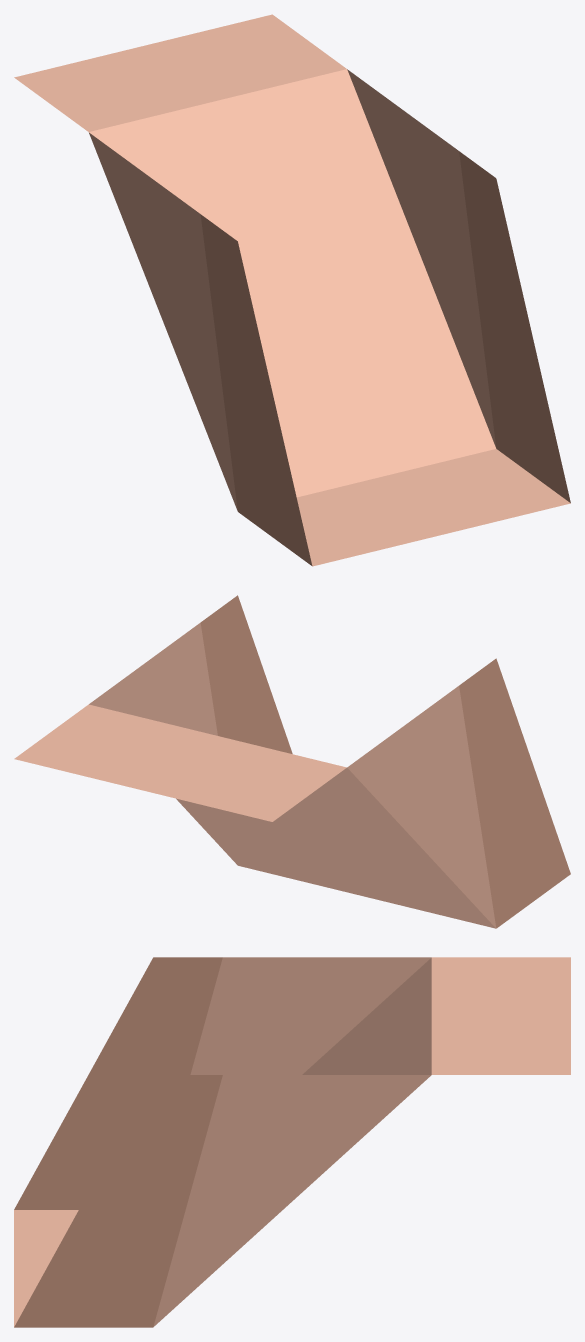
The model's file is terrain_rampLarge_detailed.fbx.
3 renders of one model, top to bottom at view 1: azimuth 30°, elevation 25°; view 2: azimuth 150°, elevation 25°; view 3: azimuth 270°, elevation 25°, orthographic. The views are drawn at different scales.
Visible parts, largest first — view 1: terrain_rampLarge_detailed; view 2: terrain_rampLarge_detailed; view 3: terrain_rampLarge_detailed.
Part boxes in pixels (x1=…): terrain_rampLarge_detailed: x1=14, y1=14, x2=570, y2=566; terrain_rampLarge_detailed: x1=14, y1=595, x2=570, y2=928; terrain_rampLarge_detailed: x1=14, y1=957, x2=570, y2=1327.
Size of the model in its own units: 100 by 100 by 200.
